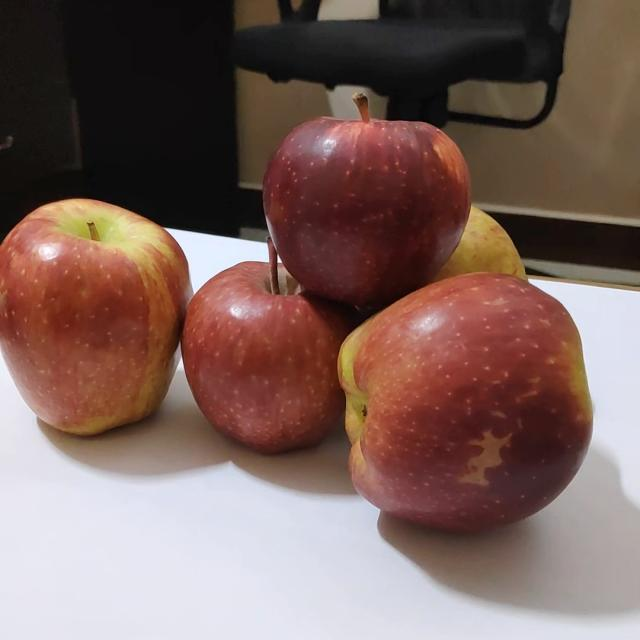apple: (338, 267, 594, 527), (1, 193, 189, 445), (256, 93, 474, 308), (179, 234, 353, 459), (407, 195, 538, 309)
